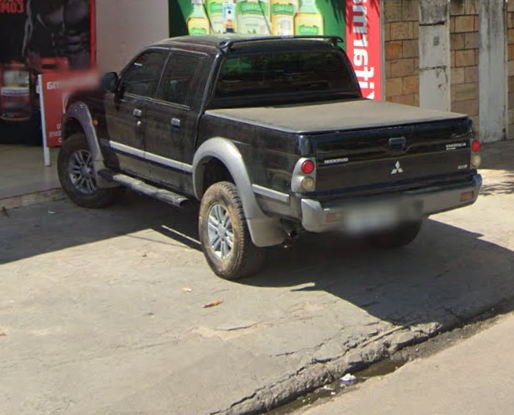car: (56, 29, 484, 283)
